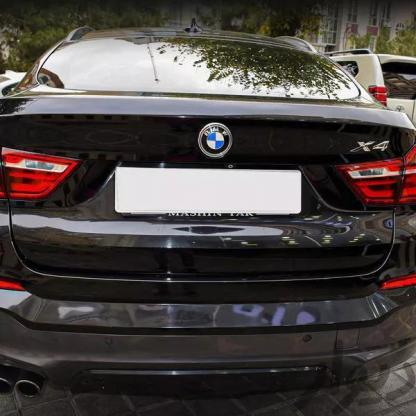Car: (0, 0, 416, 416), (312, 34, 416, 138)
